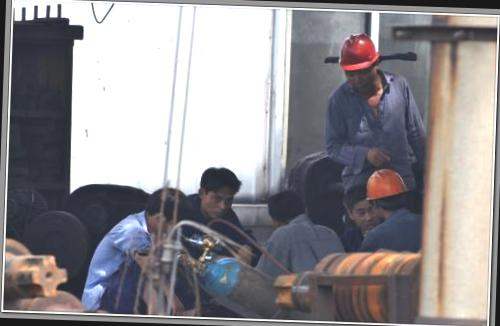no_helmet: (138, 182, 194, 235), (195, 162, 243, 220), (261, 185, 310, 234), (337, 186, 377, 228)
